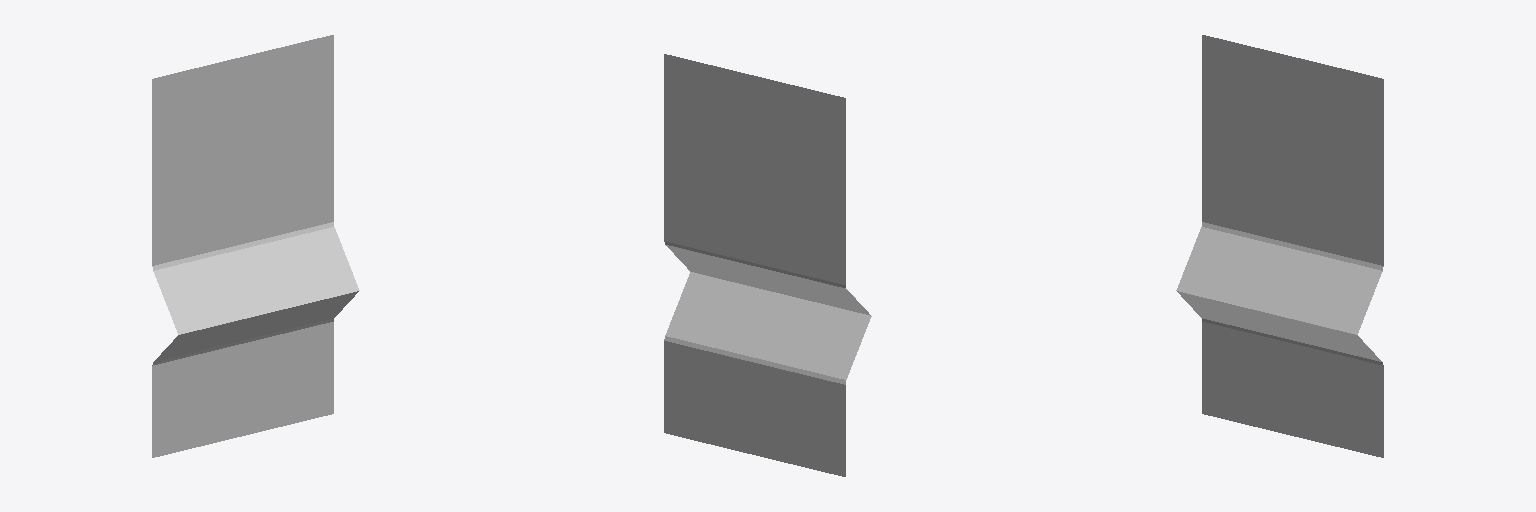
Rendered from wall_part_1.obj.
3 renders of one model, left to right at view 1: azimuth 30°, elevation 25°; view 2: azimuth 150°, elevation 25°; view 3: azimuth 330°, elevation 25°, orthographic.
Visible parts, largest first — view 1: Cube.001_Cube.002; view 2: Cube.001_Cube.002; view 3: Cube.001_Cube.002.
Boxes of the visible parts, <box> form: Cube.001_Cube.002: <box>152,35,359,457</box>; Cube.001_Cube.002: <box>664,54,871,476</box>; Cube.001_Cube.002: <box>1176,35,1383,457</box>.
Size of the model in its own units: 4 by 8 by 1.